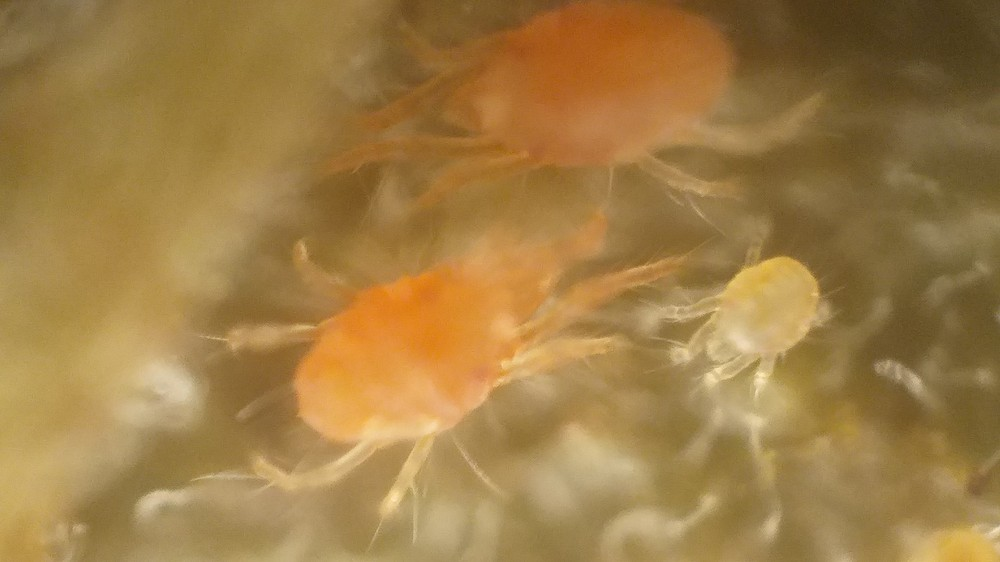Aracnido Rojo: (213, 203, 677, 513), (315, 9, 832, 210), (675, 237, 851, 406)
